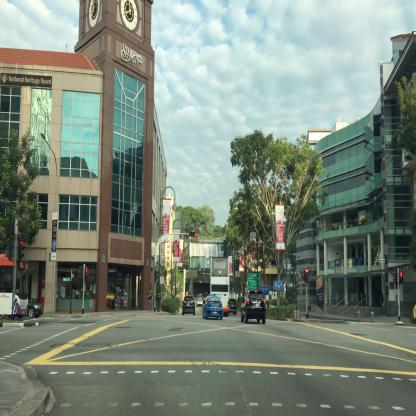red_traffic_light: (189, 231, 196, 237), (305, 267, 308, 281)
